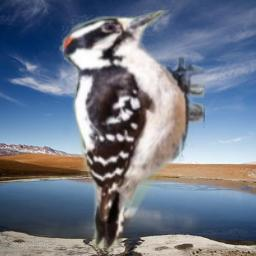Woodpecker: (59, 10, 205, 254)
